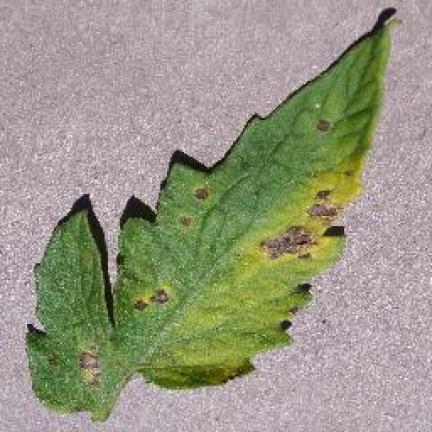disease: (27, 24, 390, 418)
leaf: (179, 216, 192, 226)
